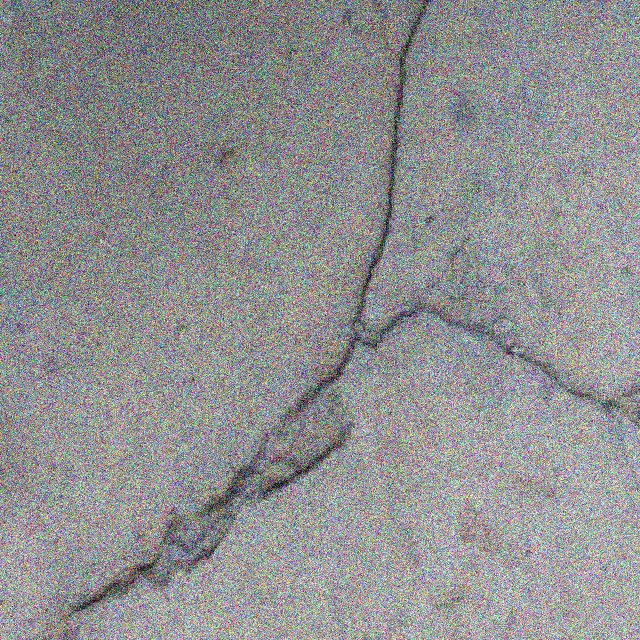SurfaceCrack: (342, 250, 640, 462)
